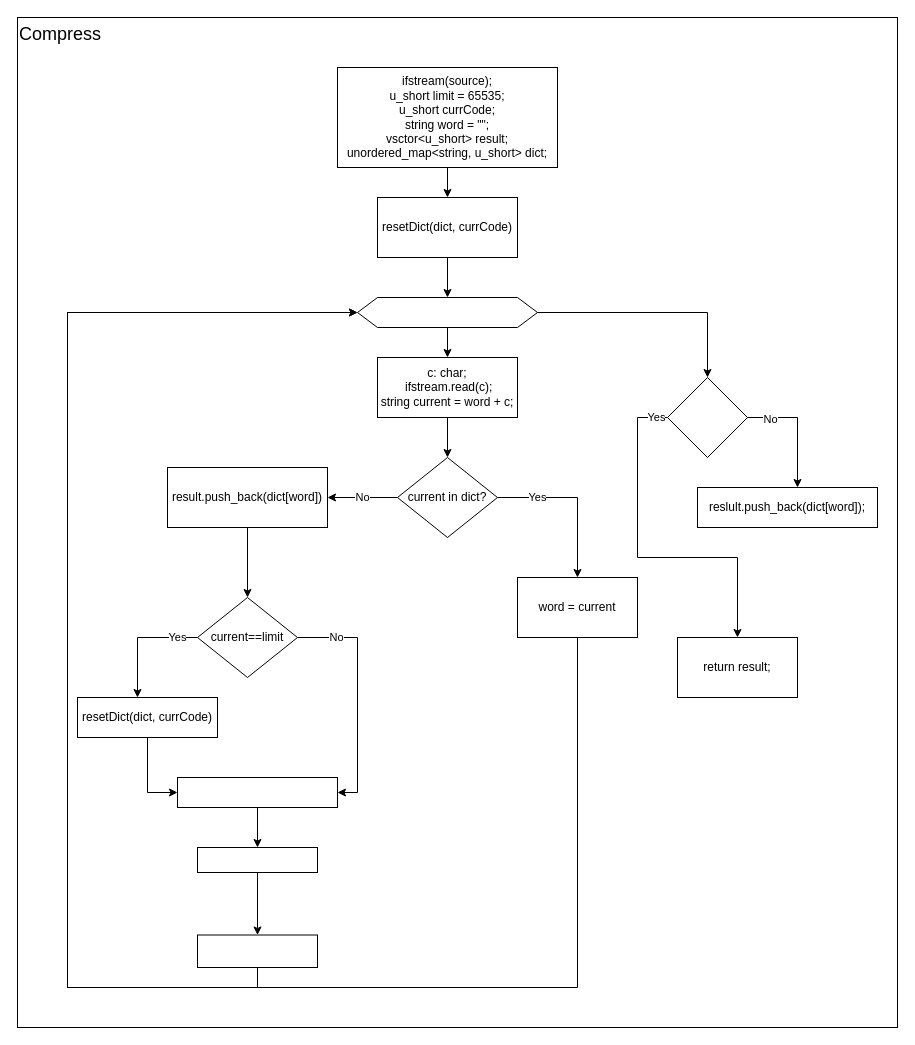
This 915x1045 diagram has some shape labels left out. Each missing label, with the box of its shape:
currCode++: (196, 846, 318, 872)
dict[current] = currCode: (176, 776, 338, 808)
for (i= 0; i < file_size; i++): (356, 296, 538, 328)
word = string(1, c): (196, 934, 318, 968)
word == "": (666, 376, 748, 458)
